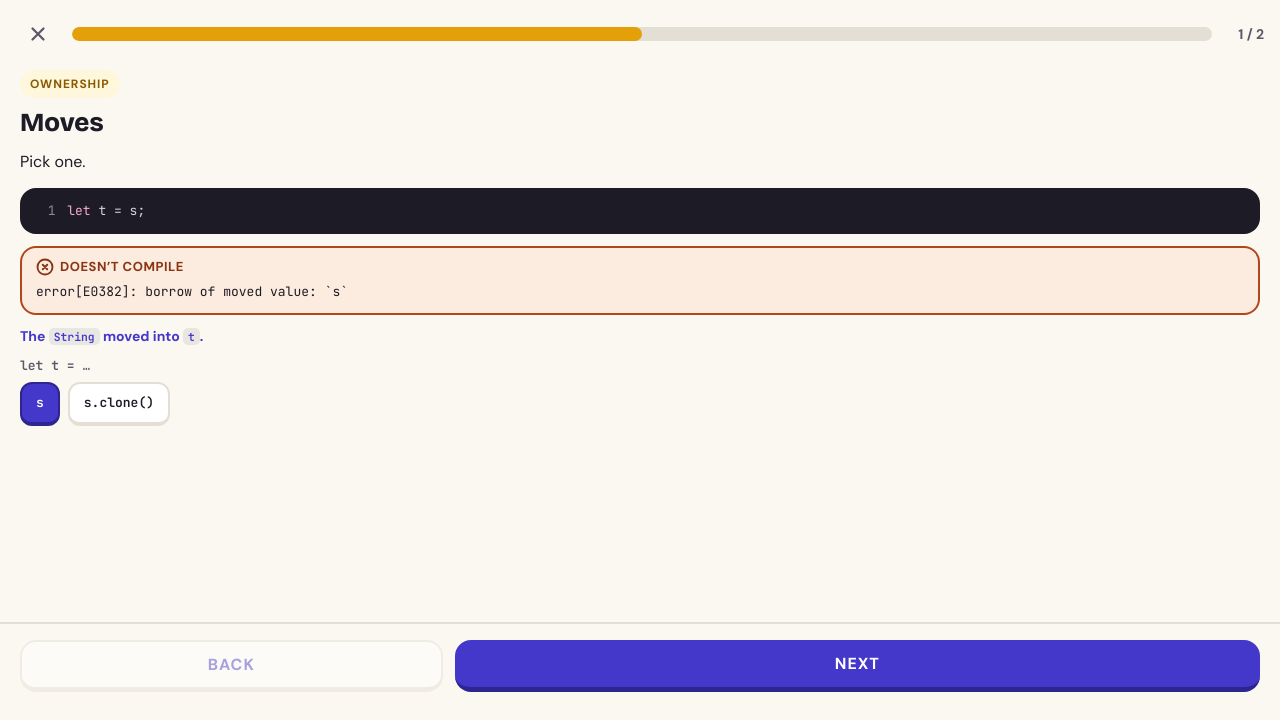
Learn with Rust demos › shows the picked variant’s code and result, and swaps both on tap
Expected: the element named "Rust code" shows "let t = s;", [20, 188, 1260, 234]
Expected: the element named "Rust code" does not show "fn main", [20, 188, 1260, 234]
Click the button "s.clone()". click: (119, 404)
box: [68, 382, 170, 426]
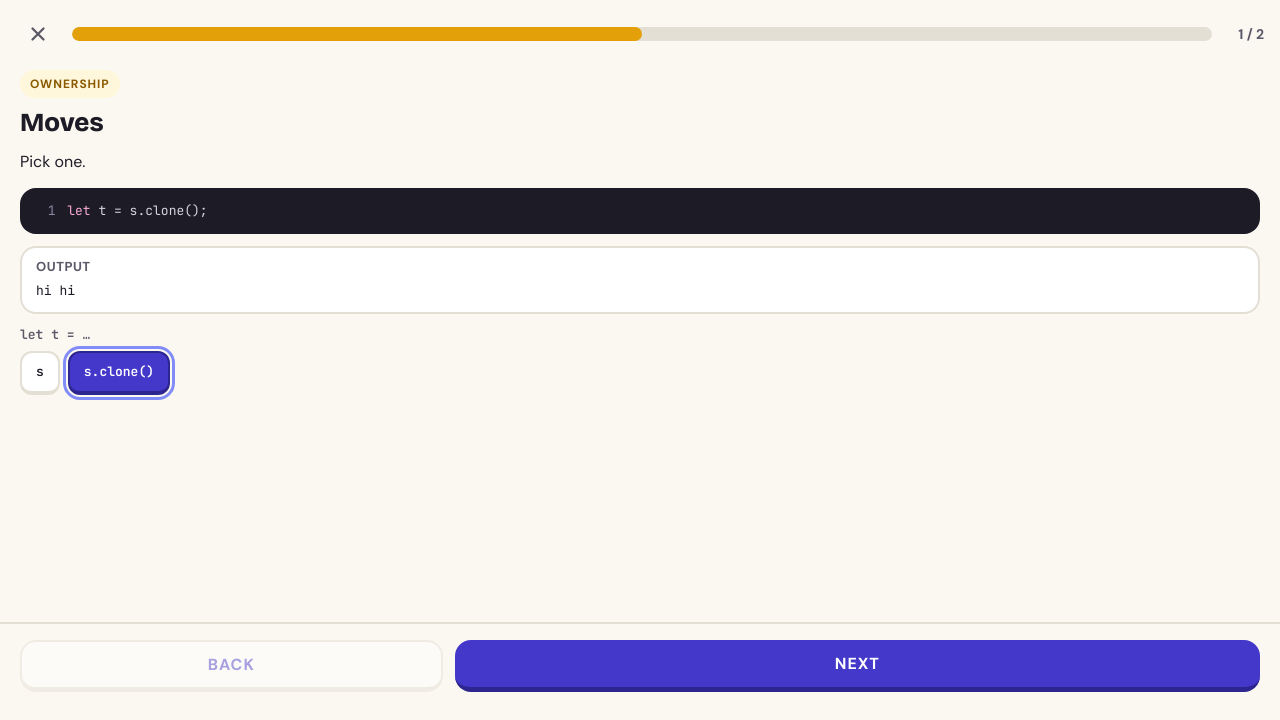
Expected: the element "Output" shows "hi hi", [36, 282, 75, 299]
